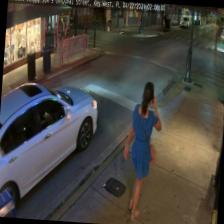person: (118, 79, 164, 221)
